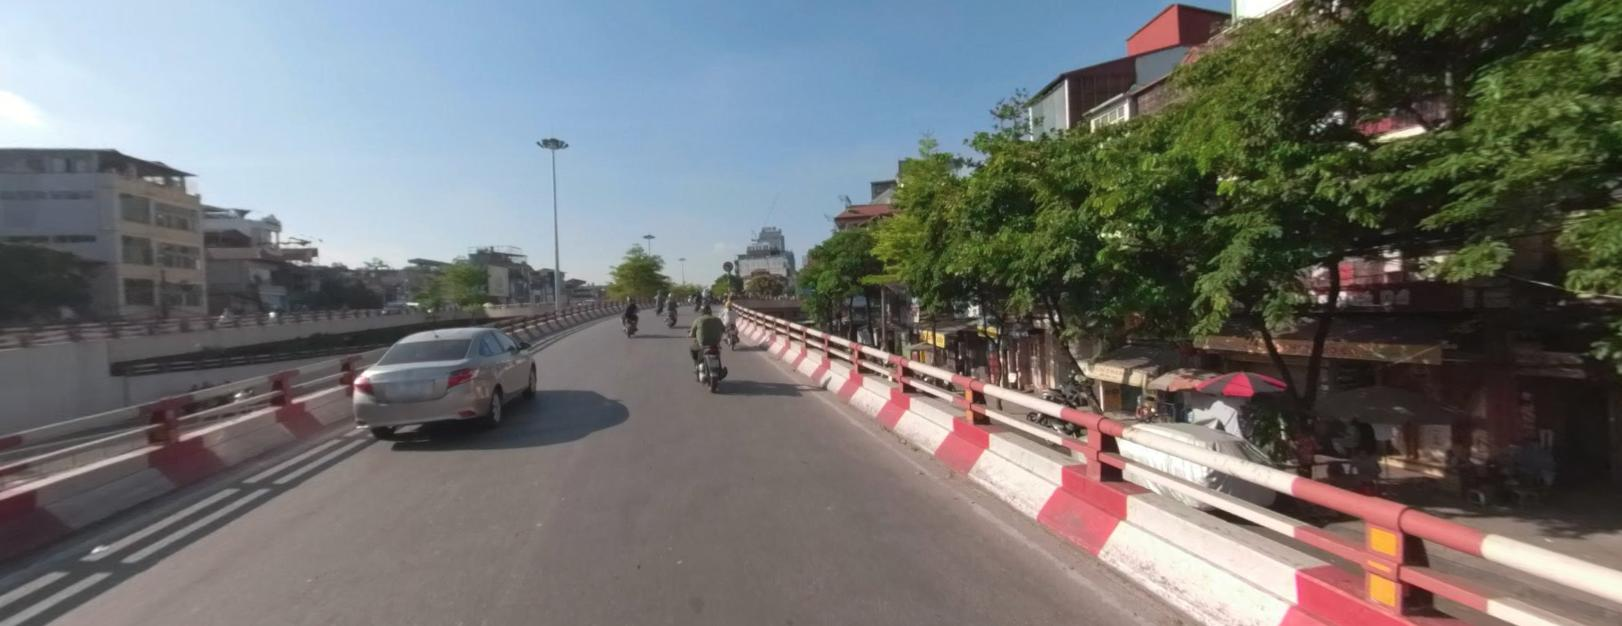Cam re: (722, 259, 732, 269)
